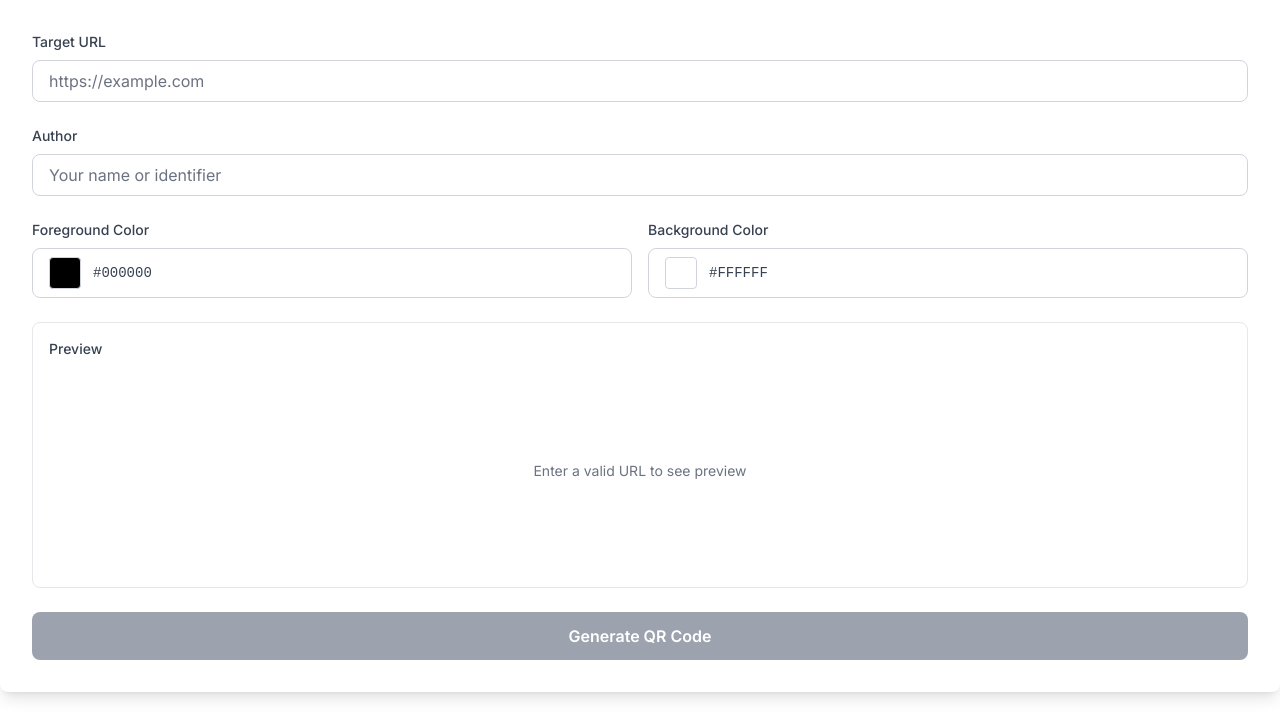
Test: QRGenerator › Color pickers › should open foreground color picker when clicking the button
Click the button "#000000" at (65, 273), box [32, 248, 632, 298]
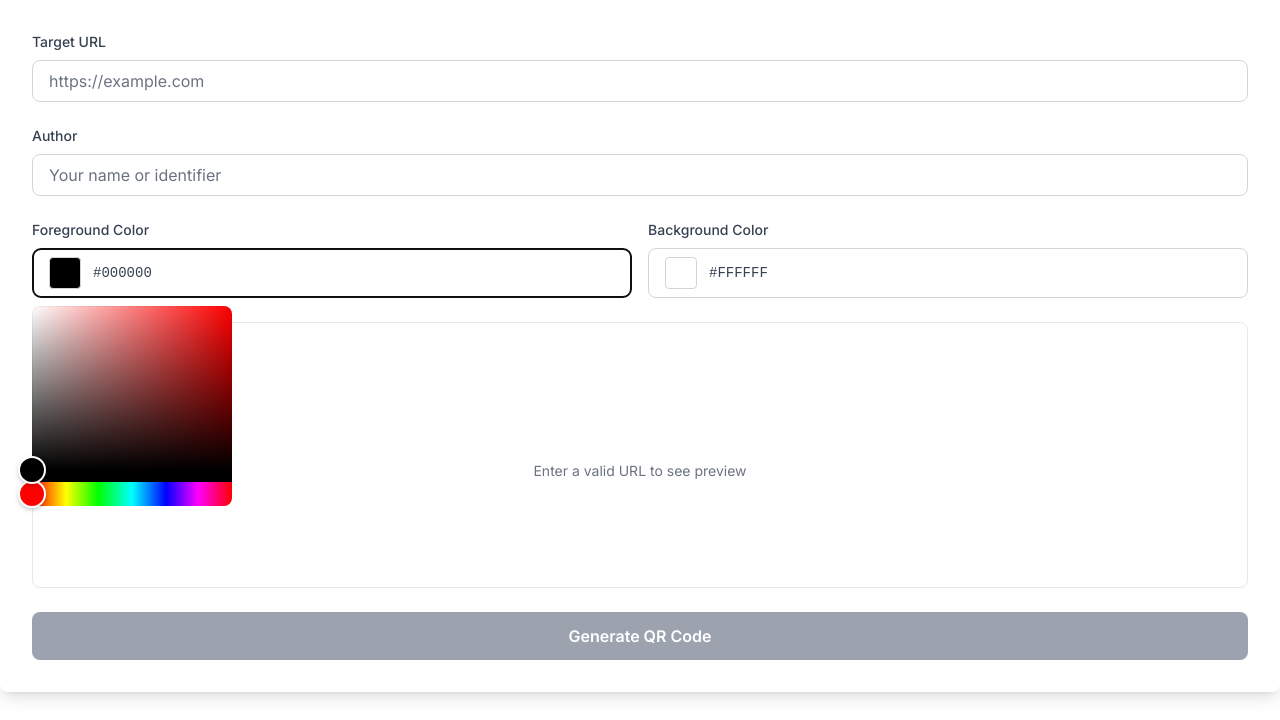
Now the element with class "react-colorful" is shown, box [32, 306, 232, 506]
